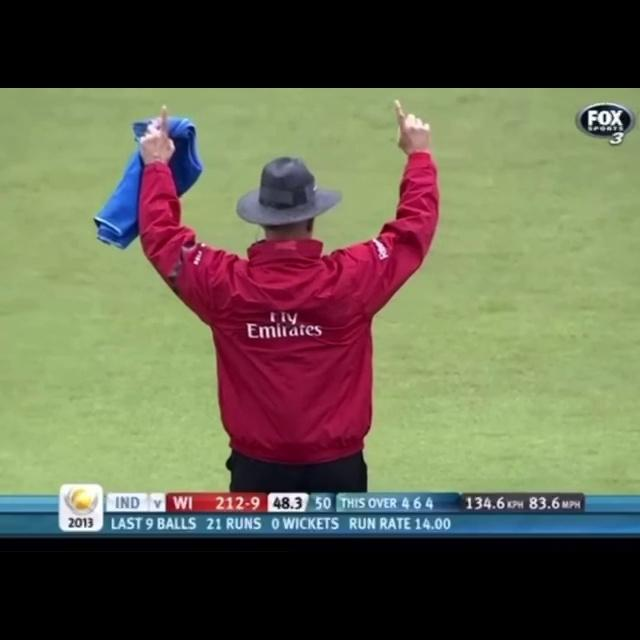umpire: (105, 98, 474, 485)
